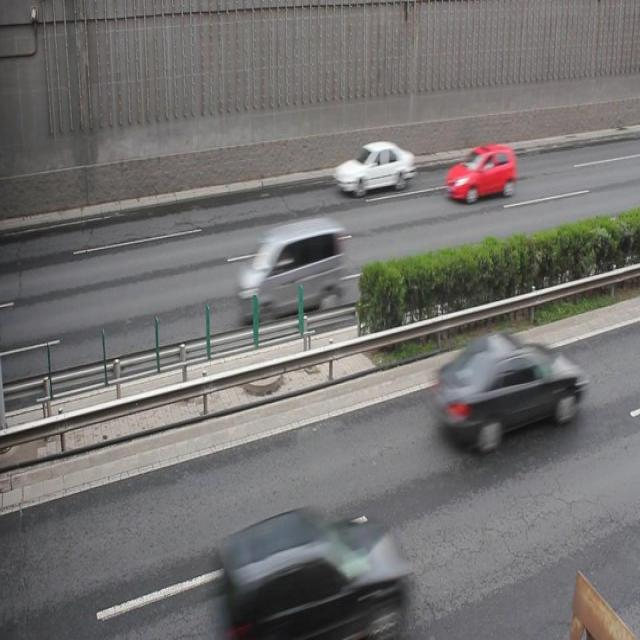car: (218, 506, 408, 640), (434, 331, 584, 451), (334, 140, 416, 198), (446, 142, 514, 201)
truck: (237, 218, 347, 314)
